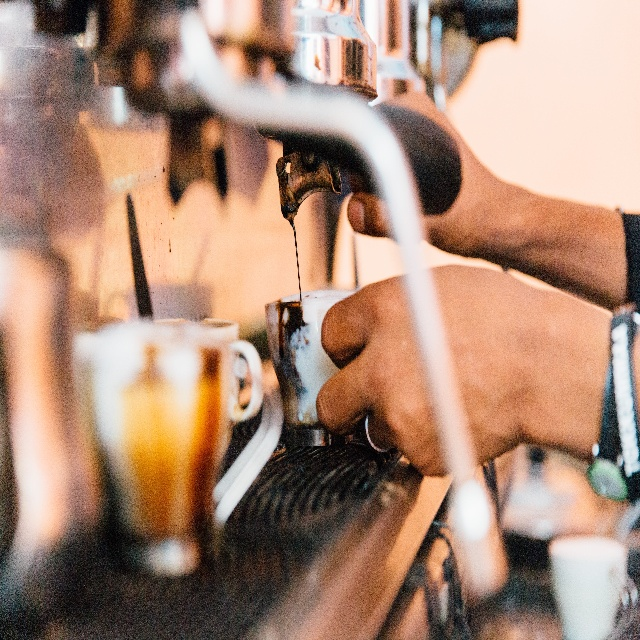Sin_guantes: (314, 267, 524, 477), (346, 90, 497, 262)
